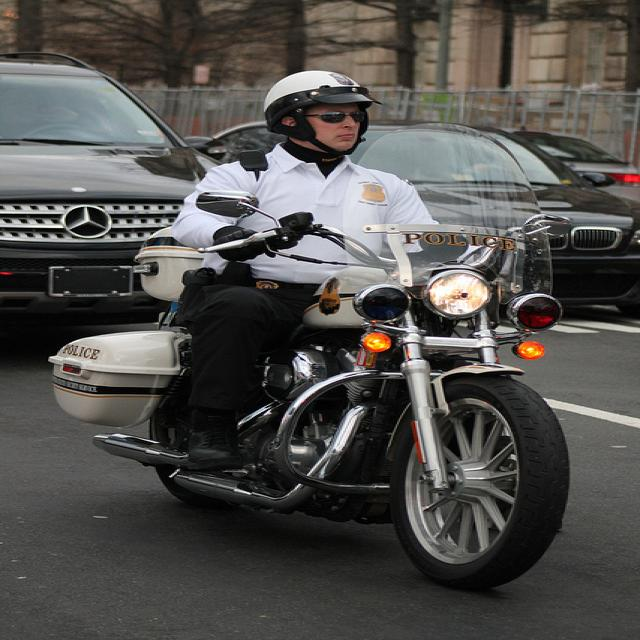motor: (108, 190, 626, 592)
